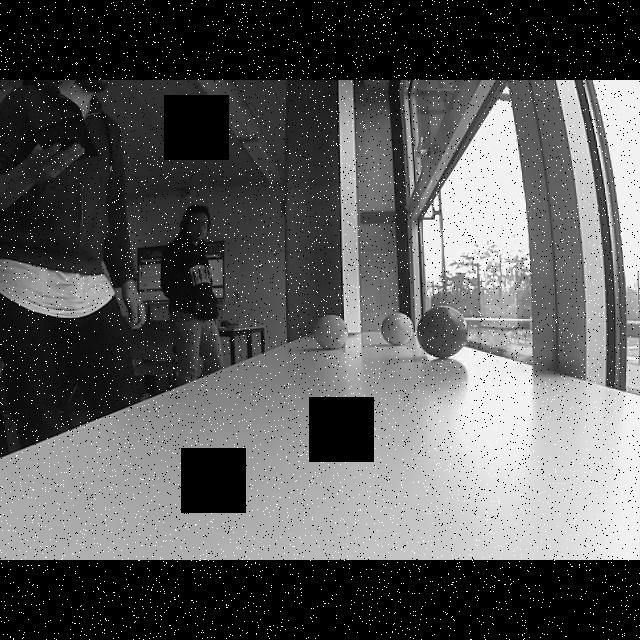ball: (415, 306, 470, 359), (312, 310, 350, 352), (382, 309, 414, 347)
